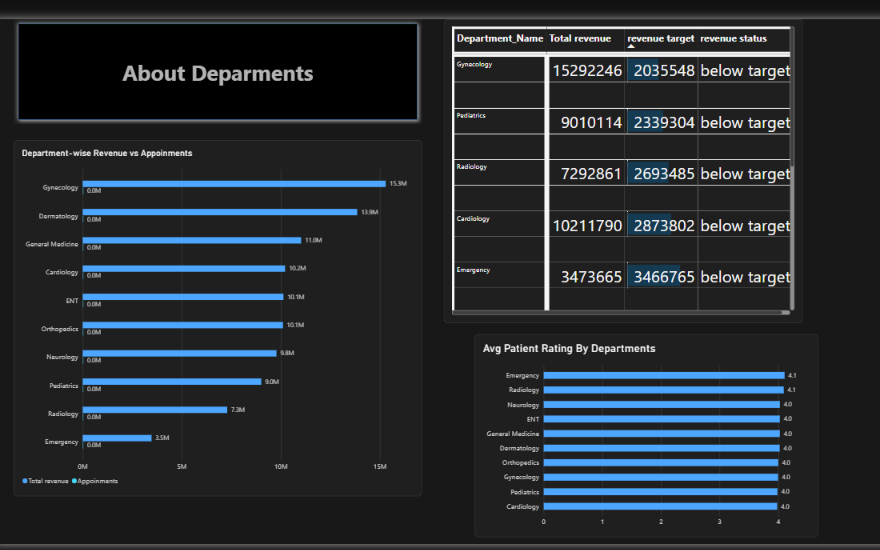

Layout of this report page (visuals, bound fields, positions):
{"tool":"powerbi","page":{"name":"about departments","canvas":[1920,1080],"ordinal":3},"visuals":[{"type":"pivotTable","fields":{"Rows":["Departments.Department_Name"],"Values":["Appointments.Total revenue","Appointments.revenue target","Appointments.revenue status"]},"box":[928.3,0,738.9,625.7],"z":0},{"type":"shape","box":[43.2,0,839.8,216.1],"z":1000},{"type":"clusteredBarChart","title":"Department-wise Revenue vs Appoinments","fields":{"Category":["Billing.Department"],"Y":["Appointments.Total revenue","Appointments.Appoinments"]},"box":[43.2,249.1,839.8,732.8],"z":2000},{"type":"clusteredBarChart","title":"Avg Patient Rating By Departments","fields":{"Category":["Feedback.Department"],"Y":["Appointments.avg patient rating"]},"box":[992.1,648.4,706,417.8],"z":3000}]}

Visuals, with their boxes on the page's 1920x1080 design canvas (x1, y1, x2, y2). These are canvas units, not pixel positions in the 880x550 screenshot, which may show the page scaled, cropped or inside an application window:
pivotTable - Departments.Department_Name x Appointments.Total revenue: [left=928, top=0, right=1667, bottom=626]
shape: [left=43, top=0, right=883, bottom=216]
"Department-wise Revenue vs Appoinments" clusteredBarChart: [left=43, top=249, right=883, bottom=982]
"Avg Patient Rating By Departments" clusteredBarChart: [left=992, top=648, right=1698, bottom=1066]
